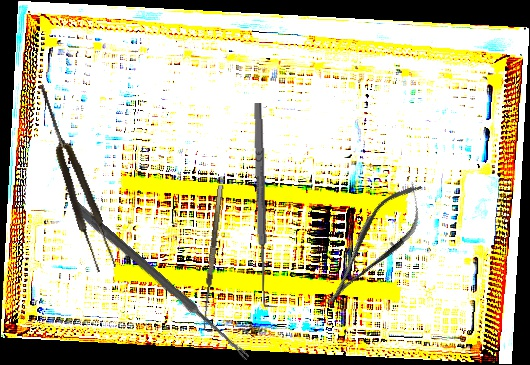Hook Surgical: (250, 102, 279, 308), (200, 184, 231, 333)
Micro Scissor: (308, 171, 440, 319)
Surgical Spoon: (70, 201, 253, 362)
Tissue Forceps: (30, 80, 119, 274)
